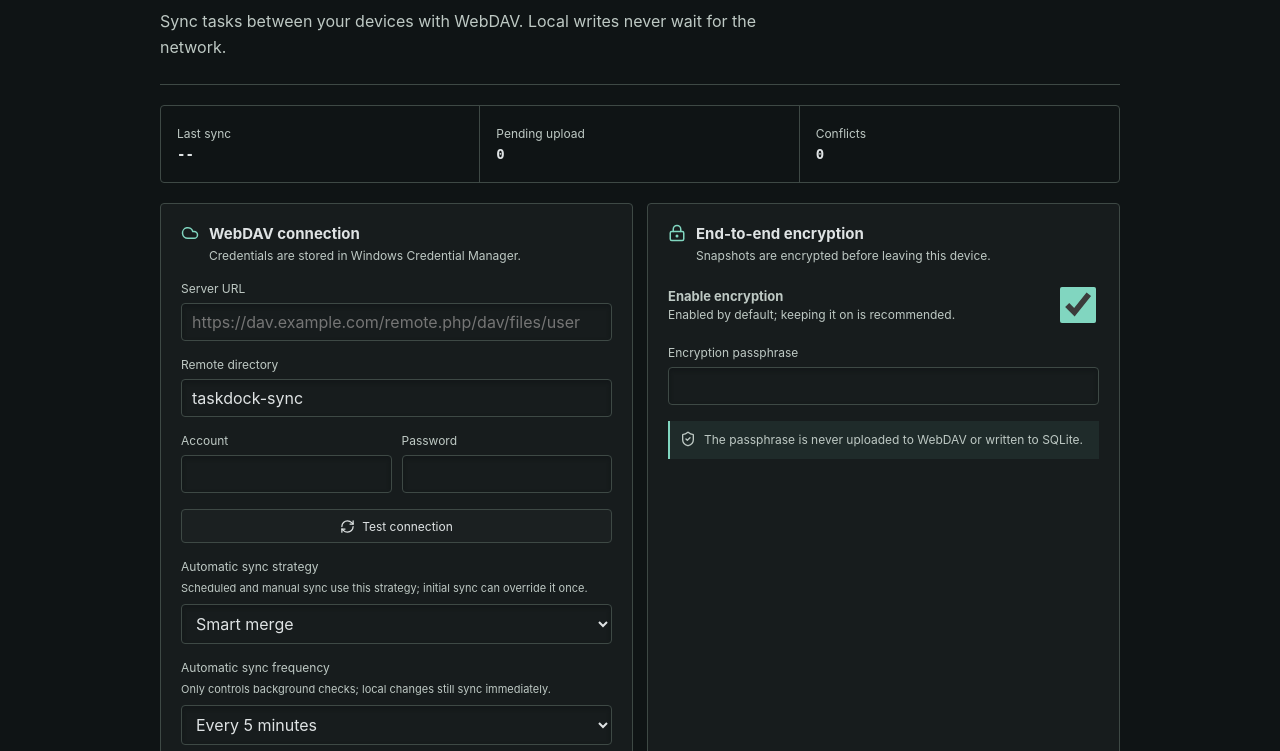
Test: shows a precise authentication error returned by the backend
Click the button "Test connection" at (396, 526), box [181,509,612,543]
(page scrolled)
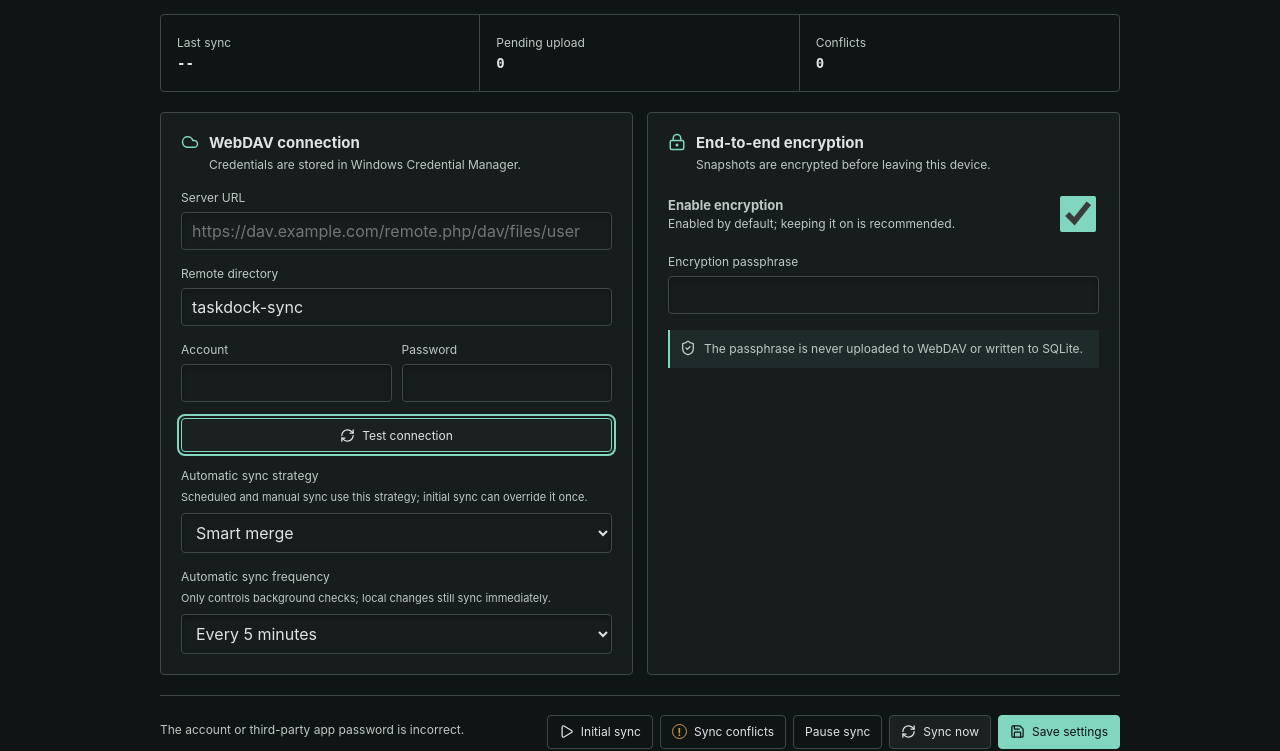
expect the text "The account or third-party app password is incorrect." is shown: met, box [160,722,464,742]
